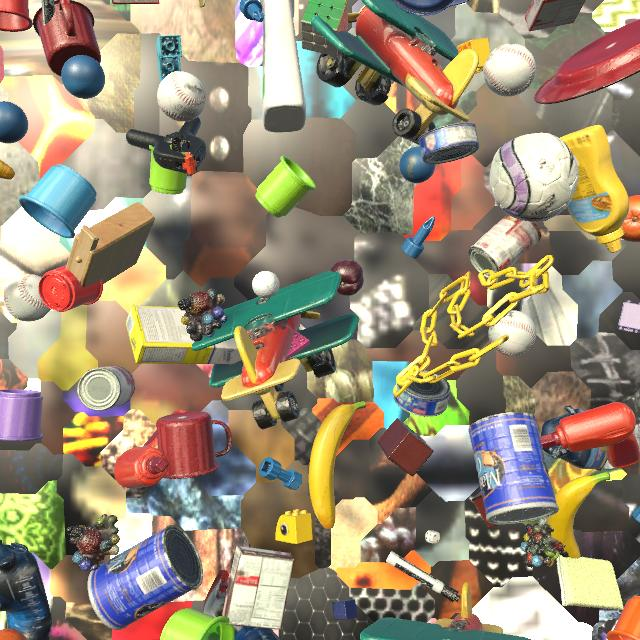ycb_002_master_chef_can: (87, 525, 203, 630), (468, 412, 559, 525)
ycb_004_sugar_box: (126, 305, 242, 364)
ycb_005_tomato_soup_can: (468, 214, 541, 278), (77, 366, 135, 411)
ycb_006_mustard_bottle: (560, 125, 630, 253)
ycb_007_tuna_fish_can: (393, 369, 451, 417), (418, 122, 479, 164)
ycb_008_pudding_box: (222, 546, 294, 630)
ycb_009_gelatin_box: (525, 0, 586, 32), (111, 0, 159, 5)
ycb_011_banana: (309, 401, 366, 530), (547, 472, 610, 559), (0, 160, 15, 180)
ycb_017_orange: (621, 195, 640, 242), (0, 628, 28, 640)
ycb_018_plum: (330, 259, 364, 296)
